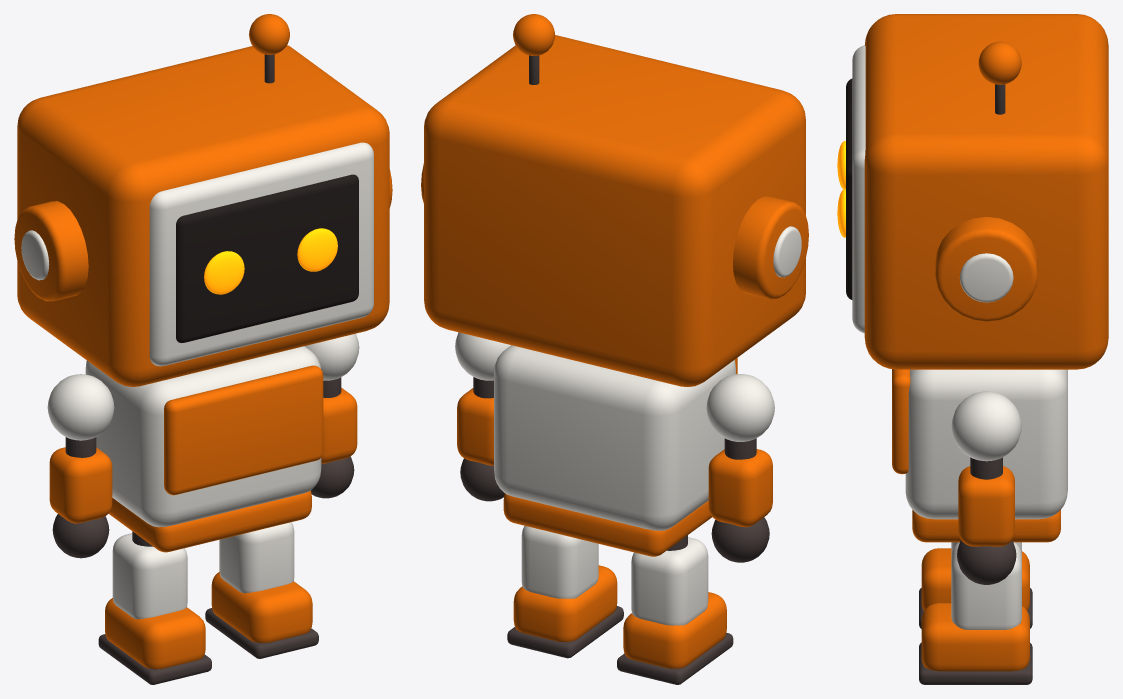
File: tsukuru.glb
The picture shows the model from 3 angles, left to right: view 1: azimuth 30°, elevation 25°; view 2: azimuth 150°, elevation 25°; view 3: azimuth 270°, elevation 25°; orthographic projection. The views are drawn at different scales.
Visible parts, largest first — view 1: Head_Shell, Head_Screen, Head_Bezel, Torso_Body, Torso_ChestPlate, Leg_L_Armor, Head_Ear_L, Torso_Waist, Leg_R_Boot, Leg_L_Boot, Leg_R_Armor, Arm_L_Forearm (+11 smaller); view 2: Head_Shell, Torso_Body, Leg_L_Armor, Head_Ear_L, Torso_Waist, Leg_R_Armor, Leg_R_Boot, Leg_L_Boot, Arm_L_Forearm, Arm_L_Shoulder, Arm_R_Forearm, Arm_L_Hand (+7 smaller); view 3: Head_Shell, Torso_Body, Head_Ear_R, Leg_R_Boot, Arm_R_Forearm, Leg_R_Armor, Arm_R_Shoulder, Head_Bezel, Torso_Waist, Leg_L_Boot, Head_EarCenter_R, Arm_R_Hand (+5 smaller).
Part boxes in pixels (box(x1,y1,x2,y2)): Head_Shell: box(17, 45, 389, 386); Head_Screen: box(176, 174, 358, 342); Head_Bezel: box(149, 142, 373, 366); Torso_Body: box(85, 346, 321, 527); Torso_ChestPlate: box(164, 365, 323, 495); Leg_L_Armor: box(112, 533, 187, 619); Head_Ear_L: box(14, 201, 88, 301); Torso_Waist: box(108, 490, 311, 552); Leg_R_Boot: box(211, 572, 312, 643); Leg_L_Boot: box(105, 598, 205, 669); Leg_R_Armor: box(219, 522, 294, 593); Arm_L_Forearm: box(49, 447, 112, 523); Head_Shell: box(424, 35, 805, 386); Torso_Body: box(494, 345, 735, 530); Leg_L_Armor: box(631, 537, 708, 625); Head_Ear_L: box(733, 196, 808, 299); Torso_Waist: box(503, 493, 711, 556); Leg_R_Armor: box(521, 526, 598, 598); Leg_R_Boot: box(513, 565, 617, 641); Leg_L_Boot: box(623, 592, 726, 668); Arm_L_Forearm: box(708, 449, 772, 527); Arm_L_Shoulder: box(706, 374, 774, 441); Arm_R_Forearm: box(457, 388, 493, 465); Arm_L_Hand: box(711, 517, 769, 562); Head_Shell: box(864, 14, 1108, 369); Torso_Body: box(905, 369, 1067, 519); Head_Ear_R: box(935, 217, 1037, 321); Leg_R_Boot: box(921, 603, 1029, 671); Arm_R_Forearm: box(958, 466, 1014, 546); Leg_R_Armor: box(951, 542, 1021, 629); Arm_R_Shoulder: box(951, 391, 1021, 461); Head_Bezel: box(852, 45, 865, 333); Torso_Waist: box(912, 510, 1060, 542); Leg_L_Boot: box(921, 548, 1029, 610); Head_EarCenter_R: box(959, 253, 1013, 302); Arm_R_Hand: box(957, 540, 1016, 584).
Size of the model in its own units: 1.33 by 2.24 by 0.8654.
